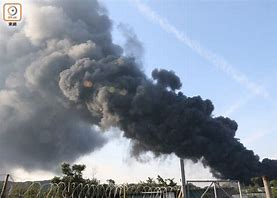smoke: (62, 51, 273, 179)
